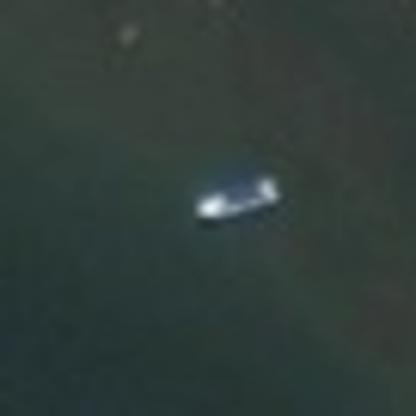ship: (185, 160, 290, 234)
